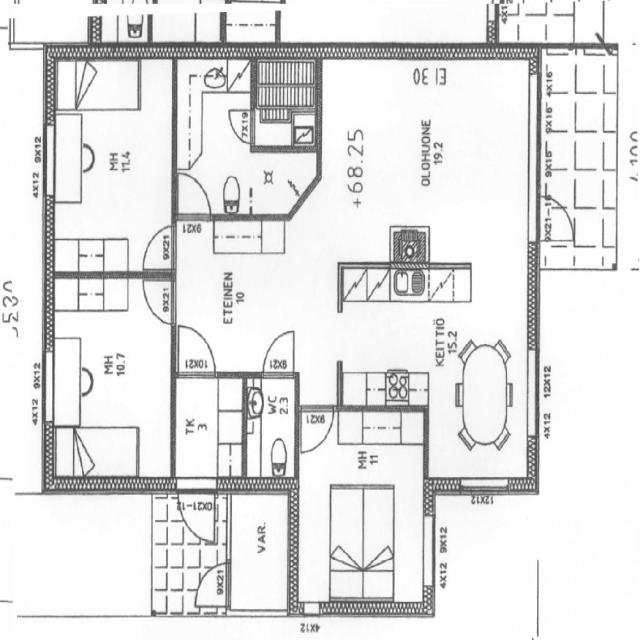door: (175, 58, 258, 217), (177, 487, 221, 548), (174, 320, 220, 378), (296, 401, 338, 457), (258, 323, 299, 379), (173, 167, 214, 222), (139, 273, 178, 325), (141, 222, 177, 272), (541, 198, 575, 249), (224, 103, 256, 147)
window: (420, 508, 438, 588), (458, 474, 511, 498), (234, 602, 288, 624), (300, 600, 324, 619)
zone: (336, 64, 531, 272), (48, 66, 175, 276), (48, 272, 175, 468), (317, 407, 430, 606), (540, 43, 620, 261), (174, 58, 256, 218), (457, 338, 522, 474), (172, 373, 246, 488), (226, 489, 292, 615), (252, 55, 318, 154), (244, 372, 298, 484), (496, 0, 574, 45), (211, 94, 257, 156), (538, 194, 576, 250), (140, 221, 177, 272), (573, 0, 605, 46)
